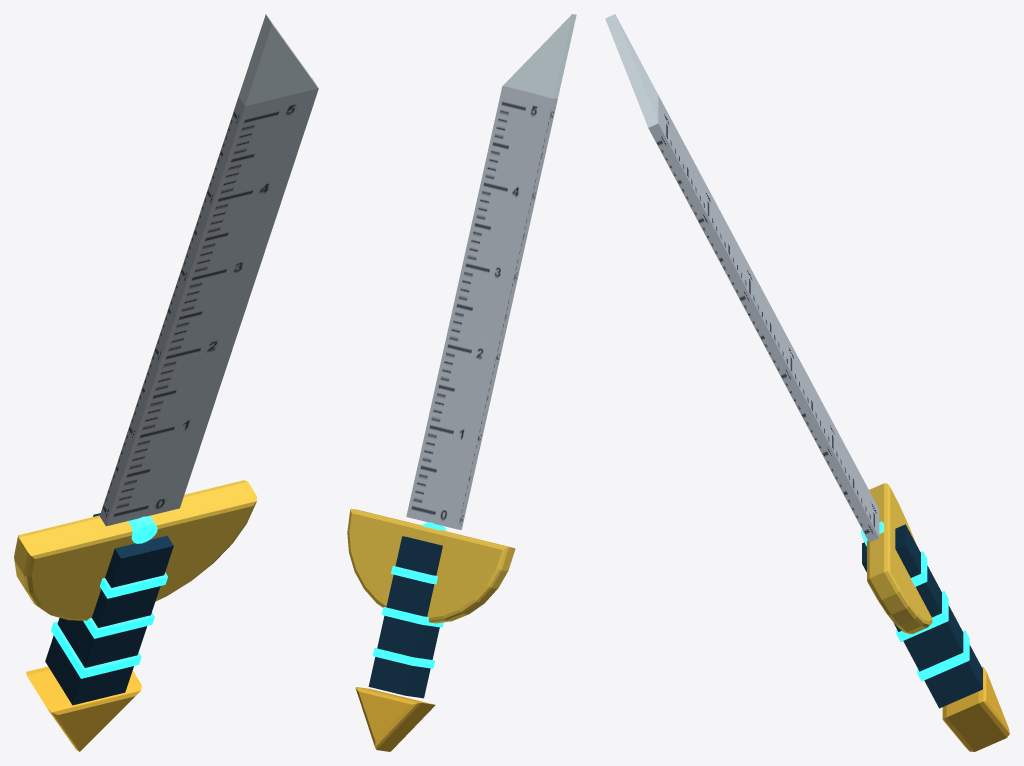
Rendered from hand_eqsu4.glb.
3 renders of one model, left to right at view 1: azimuth 30°, elevation 25°; view 2: azimuth 150°, elevation 25°; view 3: azimuth 270°, elevation 25°, orthographic. The views are drawn at different scales.
Size of the model in its own units: 1.27 by 4.83 by 2.45.
Materials: 7 (1 with a texture image).
